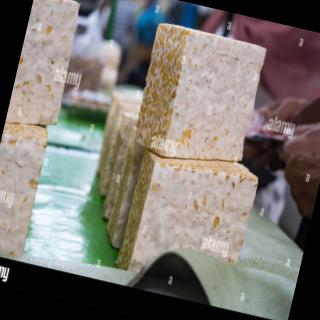Tempe: (114, 139, 263, 296), (1, 1, 86, 262), (84, 87, 145, 223), (1, 117, 53, 261), (102, 126, 150, 251), (98, 110, 140, 222)
